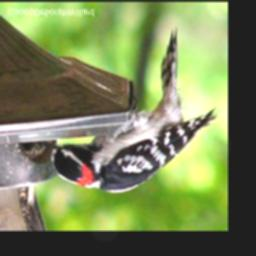Woodpecker: (41, 26, 222, 195)
